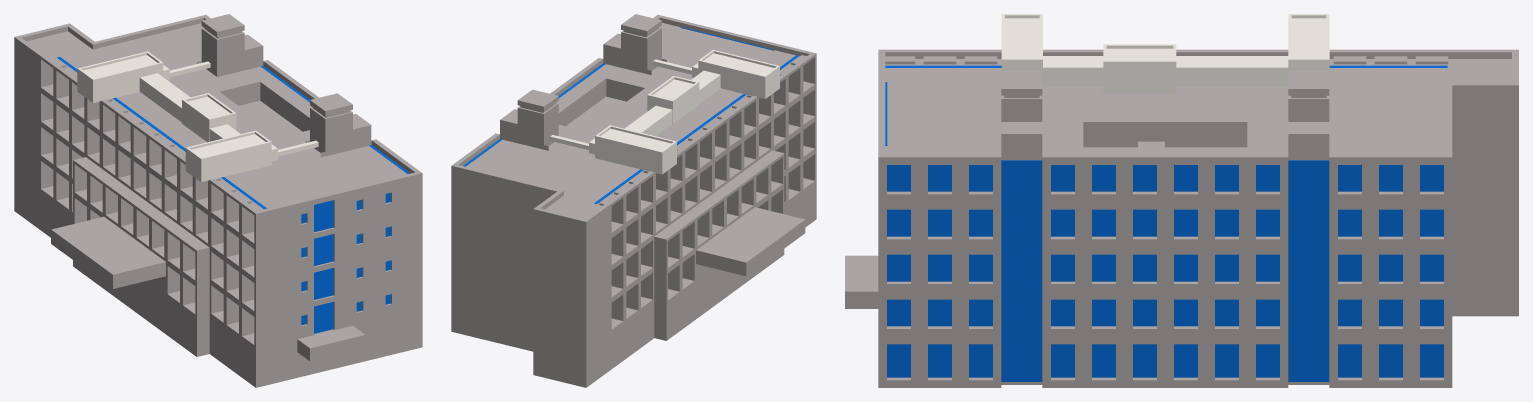
Rendered from 5공학관.fbx.
3 renders of one model, left to right at view 1: azimuth 30°, elevation 25°; view 2: azimuth 150°, elevation 25°; view 3: azimuth 270°, elevation 25°, orthographic. The views are drawn at different scales.
Visible parts, largest first — view 1: Cube_9, Cube_27, Cube_26, Cube_125, Cube_29, Cube_28, Cube_141; view 2: Cube_9, Cube_26, Cube_27, Cube_29, Cube_28, Cube_141; view 3: Cube_9, Cube_72, Cube_28, Cube_29, Cube_27, Cube_26, Cube_141.
Boxes of the visible parts, x1,y1,x2,y2 form: Cube_9: (14, 14, 422, 387); Cube_27: (185, 130, 318, 182); Cube_26: (77, 51, 210, 102); Cube_125: (301, 192, 390, 333); Cube_29: (182, 93, 236, 142); Cube_28: (139, 73, 240, 141); Cube_141: (57, 57, 266, 209); Cube_9: (451, 14, 816, 387); Cube_26: (550, 125, 676, 174); Cube_27: (653, 50, 779, 98); Cube_29: (647, 76, 699, 124); Cube_28: (625, 70, 720, 135); Cube_141: (594, 55, 798, 203); Cube_9: (845, 49, 1518, 387); Cube_72: (887, 160, 1443, 381); Cube_28: (1043, 56, 1288, 86); Cube_29: (1103, 44, 1176, 93); Cube_27: (1001, 14, 1042, 90); Cube_26: (1288, 14, 1329, 89); Cube_141: (885, 65, 1447, 67).
Bounding box in the file's own units: 761 × 671 × 1442.
